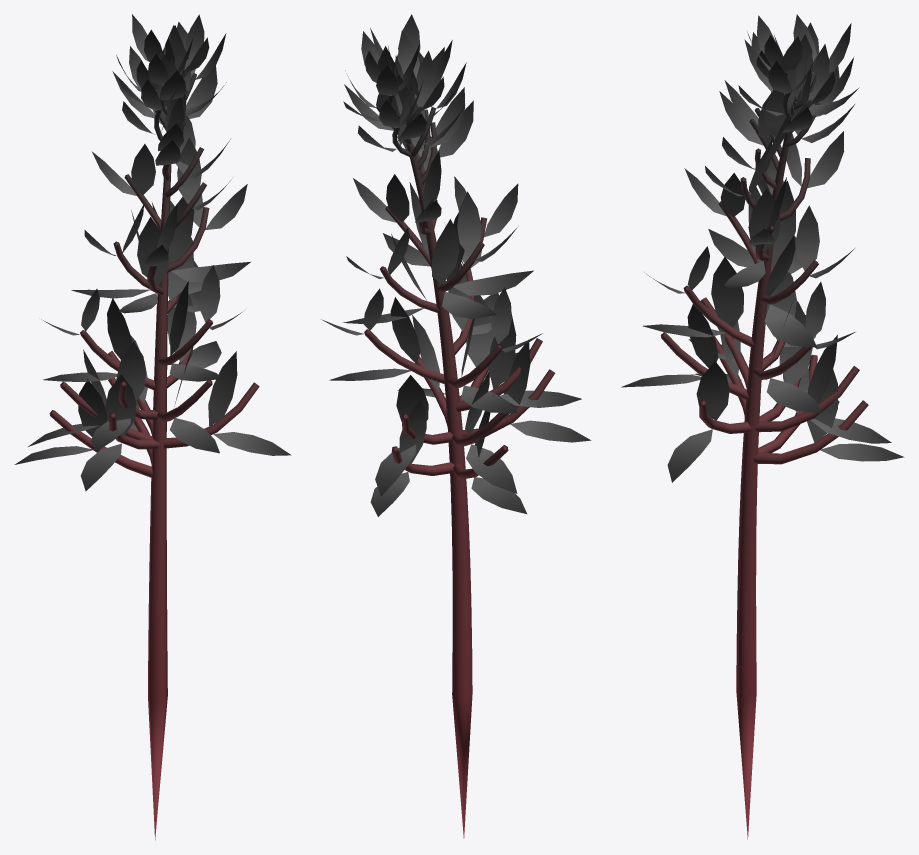
Rendered from plants-bushes-twigs-leafy-twig_v6.fbx.
The picture shows the model from 3 angles, left to right: view 1: azimuth 30°, elevation 25°; view 2: azimuth 150°, elevation 25°; view 3: azimuth 270°, elevation 25°; orthographic projection. The views are drawn at different scales.
Visible parts, largest first — view 1: Leafy Twig_v6; view 2: Leafy Twig_v6; view 3: Leafy Twig_v6.
Part boxes in pixels (<box>): Leafy Twig_v6: <box>14,14,291,840</box>; Leafy Twig_v6: <box>321,14,591,838</box>; Leafy Twig_v6: <box>621,14,904,839</box>.
Size of the model in its own units: 0.1604 by 0.6 by 0.1841.
